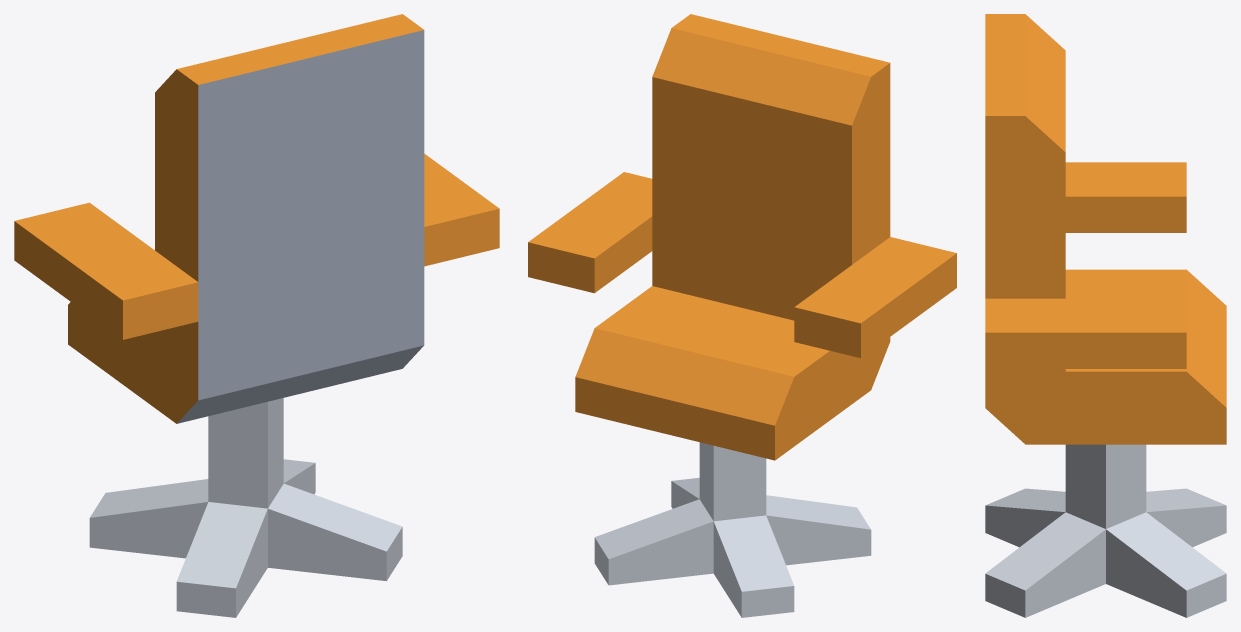
Rendered from desk_chairArms.glb.
The picture shows the model from 3 angles, left to right: view 1: azimuth 30°, elevation 25°; view 2: azimuth 150°, elevation 25°; view 3: azimuth 270°, elevation 25°; orthographic projection. The views are drawn at different scales.
Visible parts, largest first — view 1: desk_chairArms; view 2: desk_chairArms; view 3: desk_chairArms.
Boxes of the visible parts, box(x1,y1,x2,y2) form: desk_chairArms: box(14, 14, 499, 617); desk_chairArms: box(528, 14, 956, 617); desk_chairArms: box(985, 14, 1226, 617).
Bounding box in the file's own units: 0.25 × 0.3438 × 0.15.
